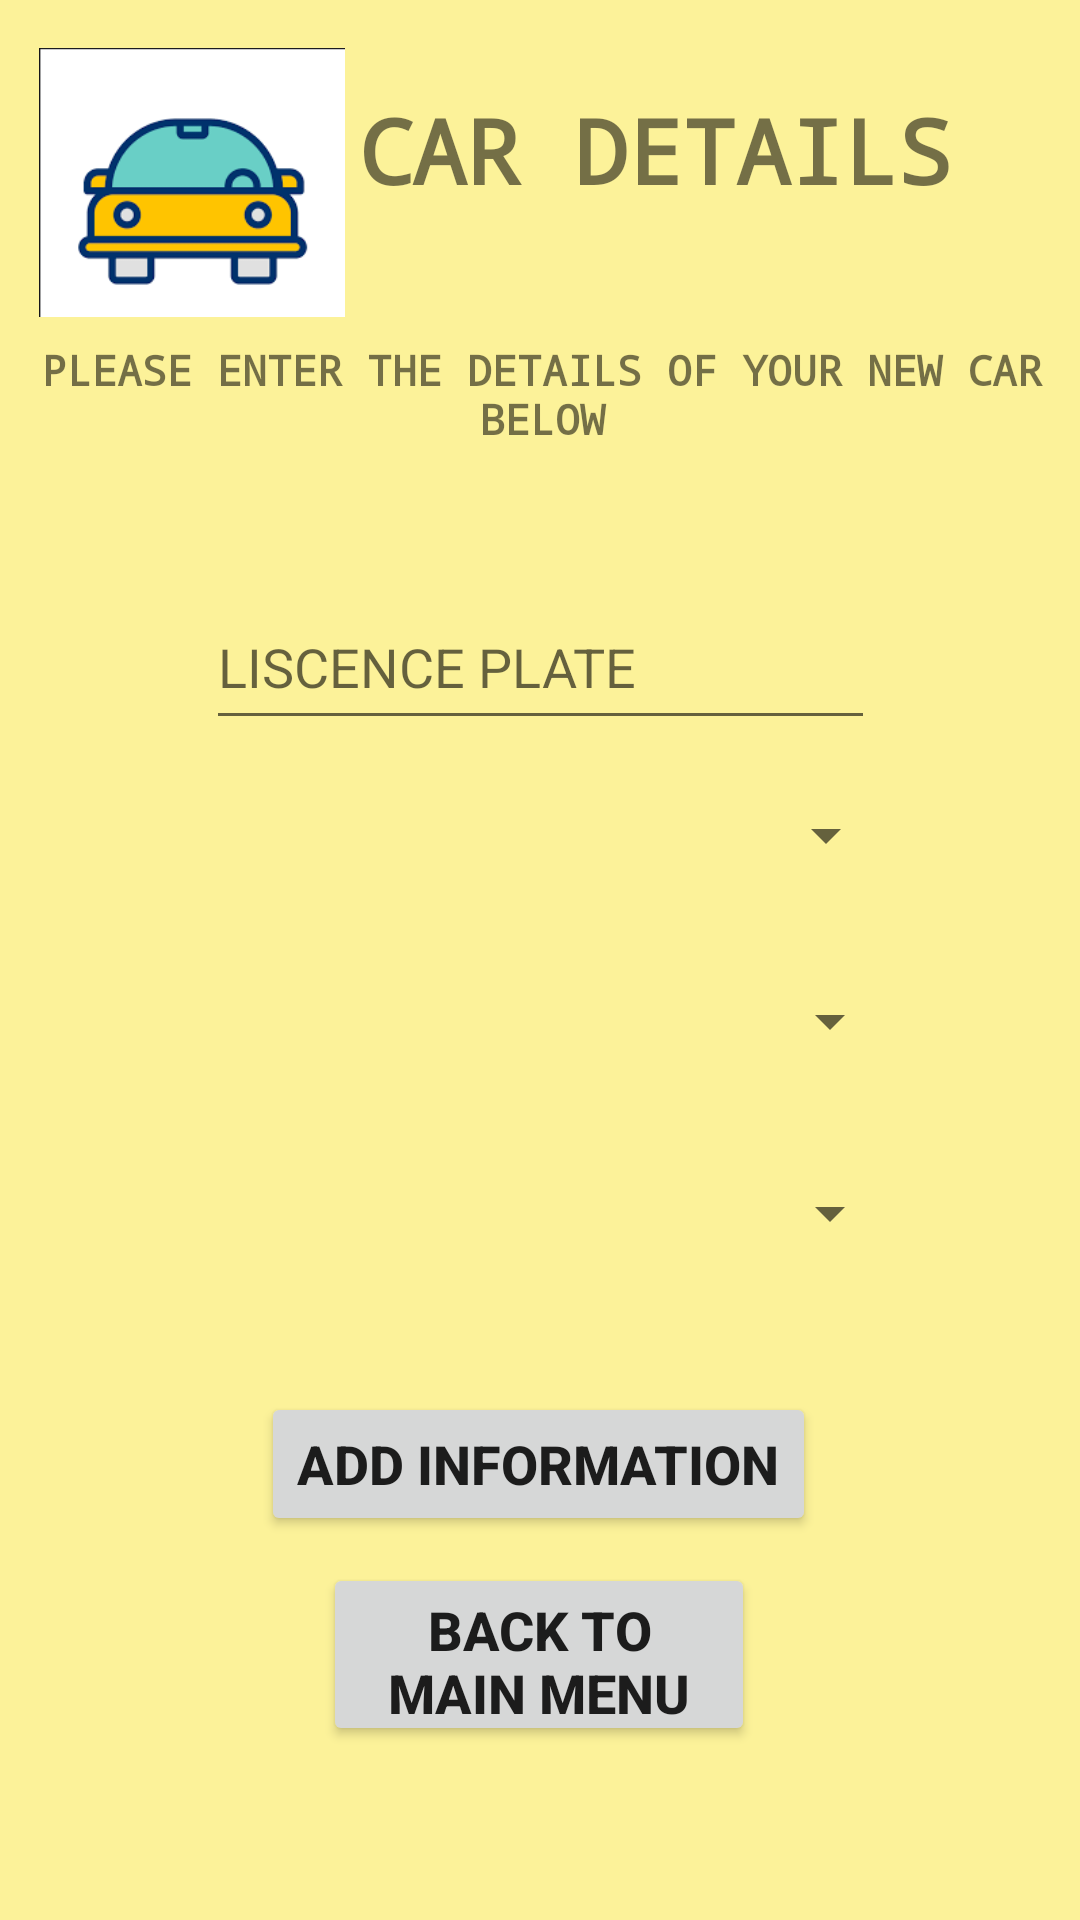

Named icons in this screenshot (1080*1920) and their bounding boxes, (x1, y1, x2, y2):
caricon: (39, 48, 345, 317)
